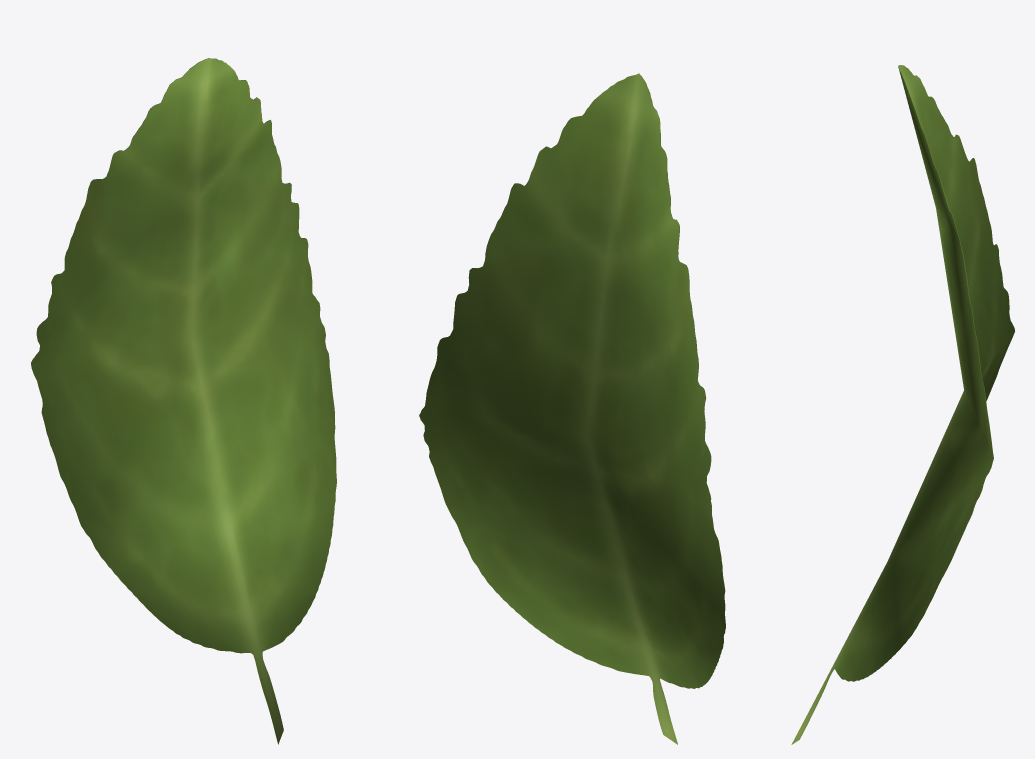
Rendered from single_leaf.fbx.
The picture shows the model from 3 angles, left to right: view 1: azimuth 30°, elevation 25°; view 2: azimuth 150°, elevation 25°; view 3: azimuth 270°, elevation 25°; orthographic projection. The views are drawn at different scales.
Visible parts, largest first — view 1: Standalone Herb.001; view 2: Standalone Herb.001; view 3: Standalone Herb.001.
Boxes of the visible parts, box(x1,y1,x2,y2) form: Standalone Herb.001: box(31, 58, 336, 744); Standalone Herb.001: box(419, 73, 725, 744); Standalone Herb.001: box(791, 65, 1014, 744).
Size of the model in its own units: 8.9 by 19.38 by 5.57.
Materials: 1 (1 with a texture image).
